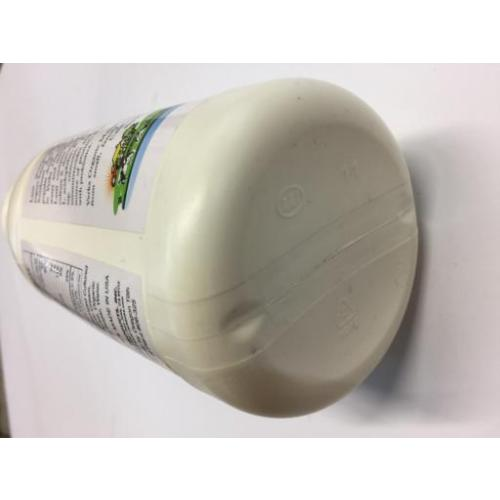plastic: (12, 84, 409, 416)
